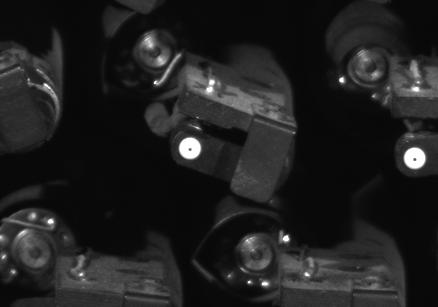fiber: (173, 133, 206, 163), (401, 144, 429, 175)
